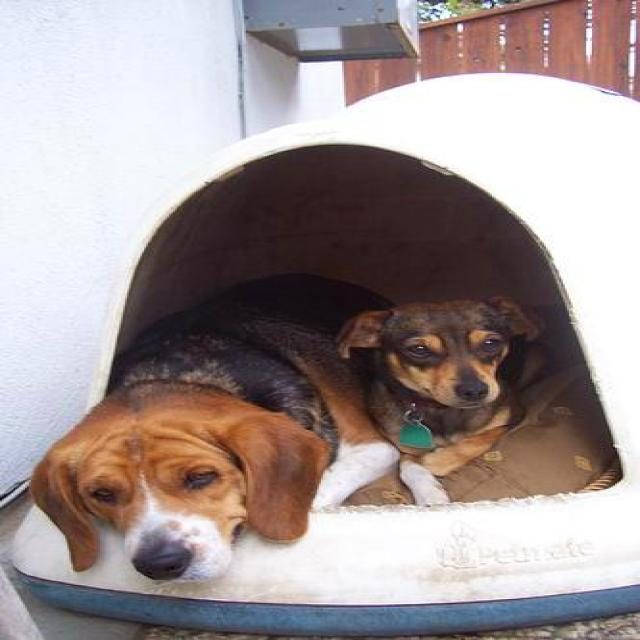beagle: (29, 277, 394, 595), (338, 290, 550, 510)
